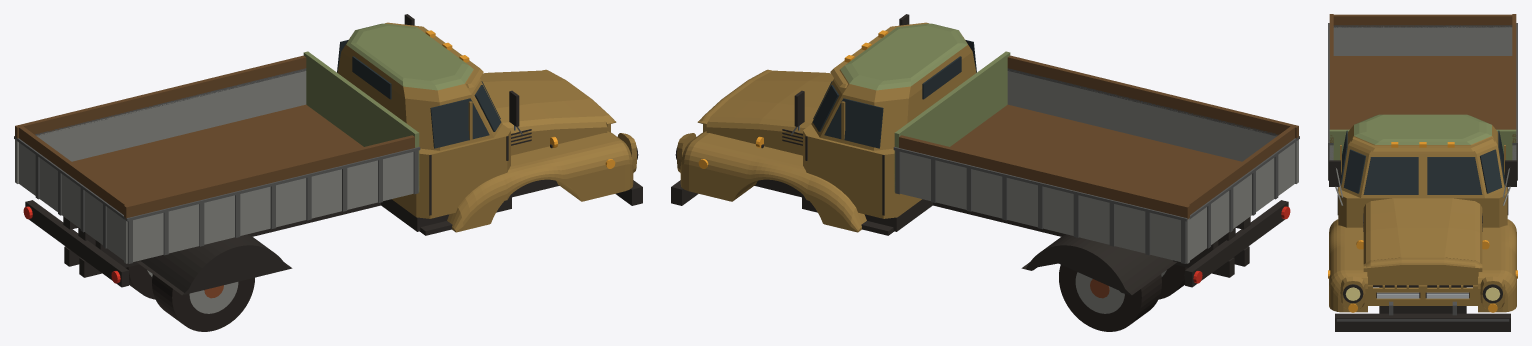
Rendered from base_longbed.glb.
3 views of the same model, side by side, from view 1: azimuth 30°, elevation 25°; view 2: azimuth 150°, elevation 25°; view 3: azimuth 270°, elevation 25° (orthographic). The views are drawn at different scales.
Parts seen in each view (by area): view 1: base_longbed; view 2: base_longbed; view 3: base_longbed.
Boxes of the visible parts, x1=… form: base_longbed: x1=14, y1=14, x2=642, y2=331; base_longbed: x1=671, y1=14, x2=1299, y2=331; base_longbed: x1=1328, y1=14, x2=1517, y2=331.
Bounding box in the file's own units: 7.15 × 2.61 × 2.69.
